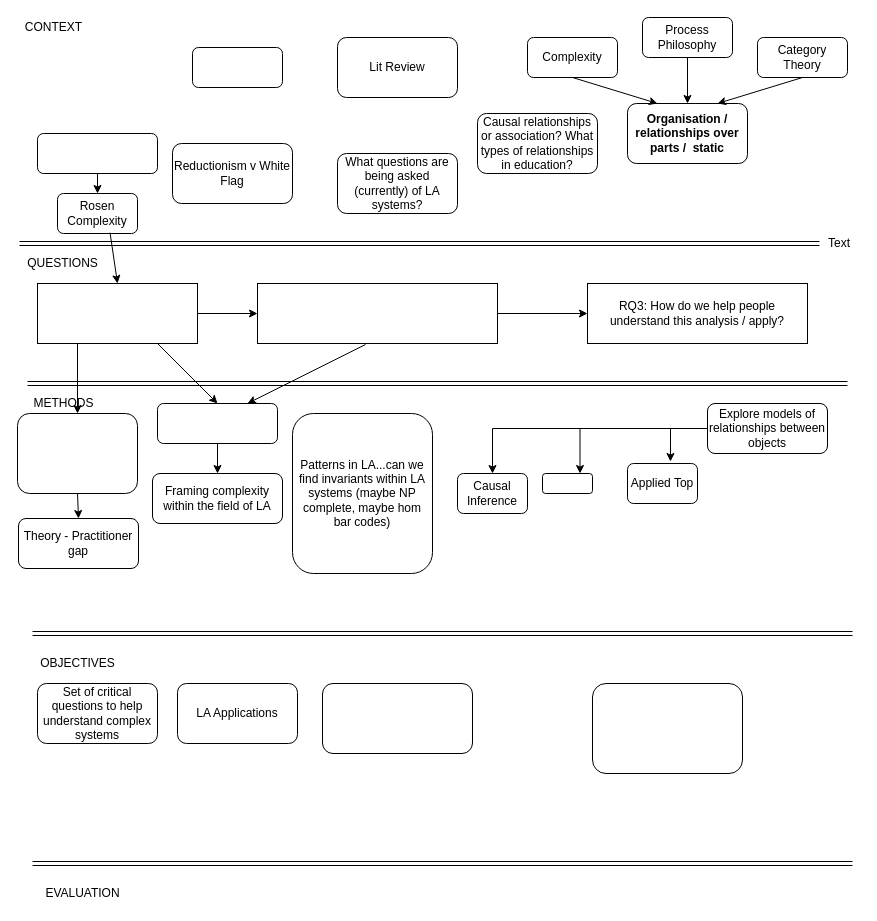
The diagram is 877 pixels wide and 921 high, and some of its shapes have lost their labels. The centre of each missing label's shape, as x and y in pixels:
"Confusion in communication and decision making around complex LA systems" belongs at (x=77, y=453).
"CT" belongs at (x=567, y=483).
"Define / model complexity" belongs at (x=217, y=423).
"Learning" belongs at (x=237, y=67).
"RQ1: What is the impact of complexity on LA?" belongs at (x=117, y=313).
"RQ2: How can we better approach complex systems analysis in LA?" belongs at (x=377, y=313).
"What are better questions to ask of a complex LA system?" belongs at (x=397, y=718).
"What is a complex system?" belongs at (x=97, y=153).
"When do I have enough data / data in the right structure to do causal inference?" belongs at (x=667, y=728).
